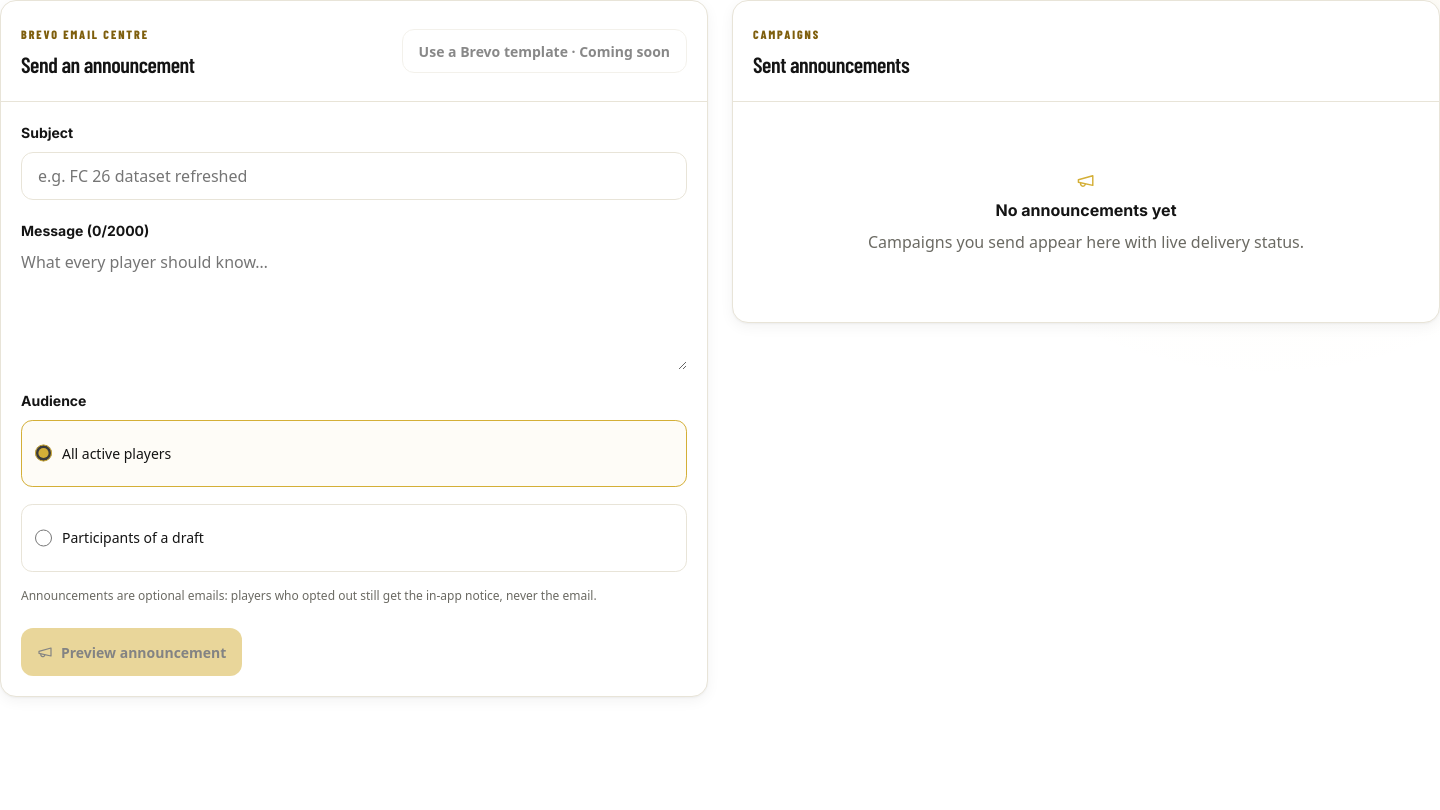
AdminCommunicationsPage (PR-21 §9.8) › explains a 409 as the audience moving since the preview
The image size is (1440, 810).
Type "Season 2 opens" into the field labelled "Subject" at (354, 176), box x1=21 y1=152 x2=687 y2=200
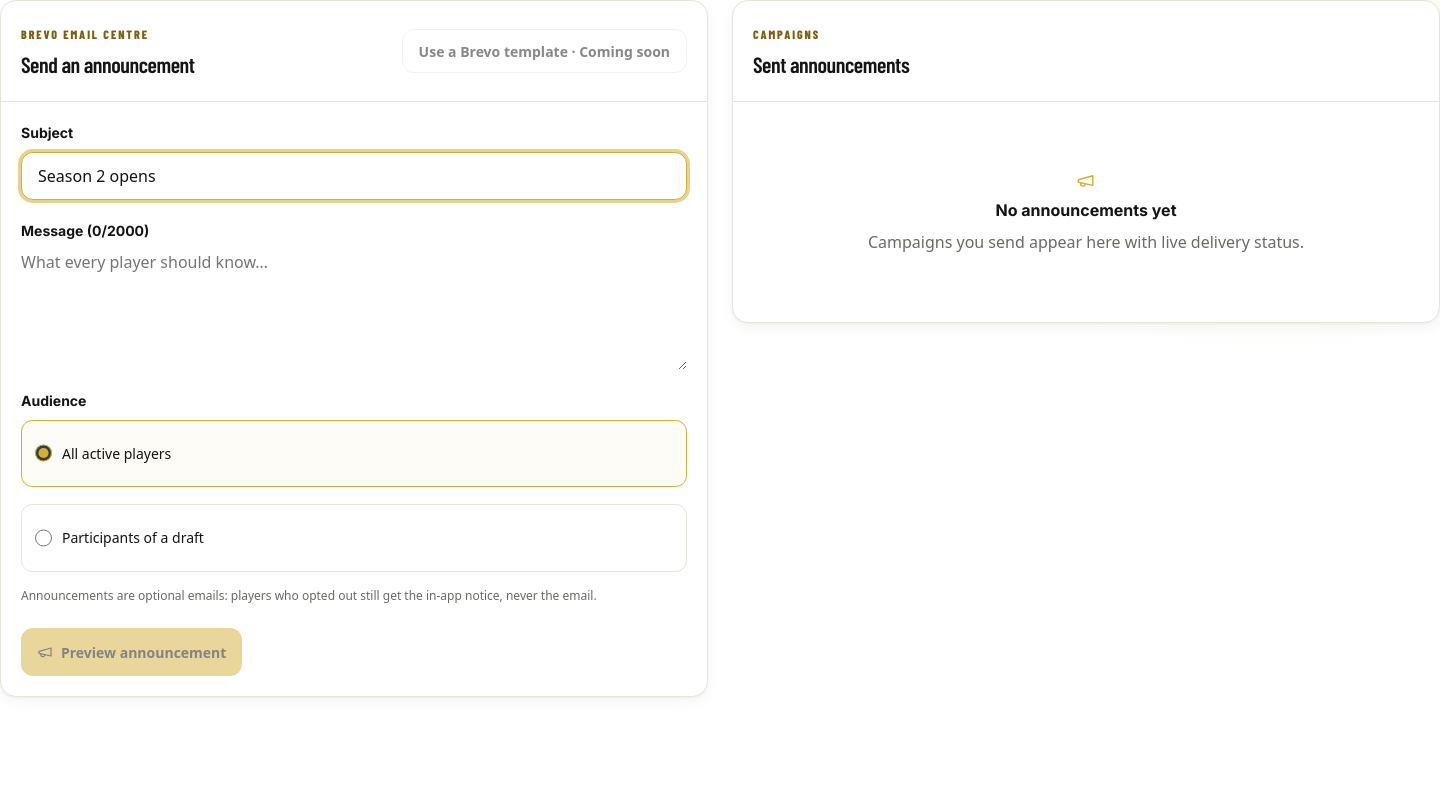
Type "New dataset live." into the text box labelled "Message (0/2000)" at (354, 310), box x1=21 y1=250 x2=687 y2=370
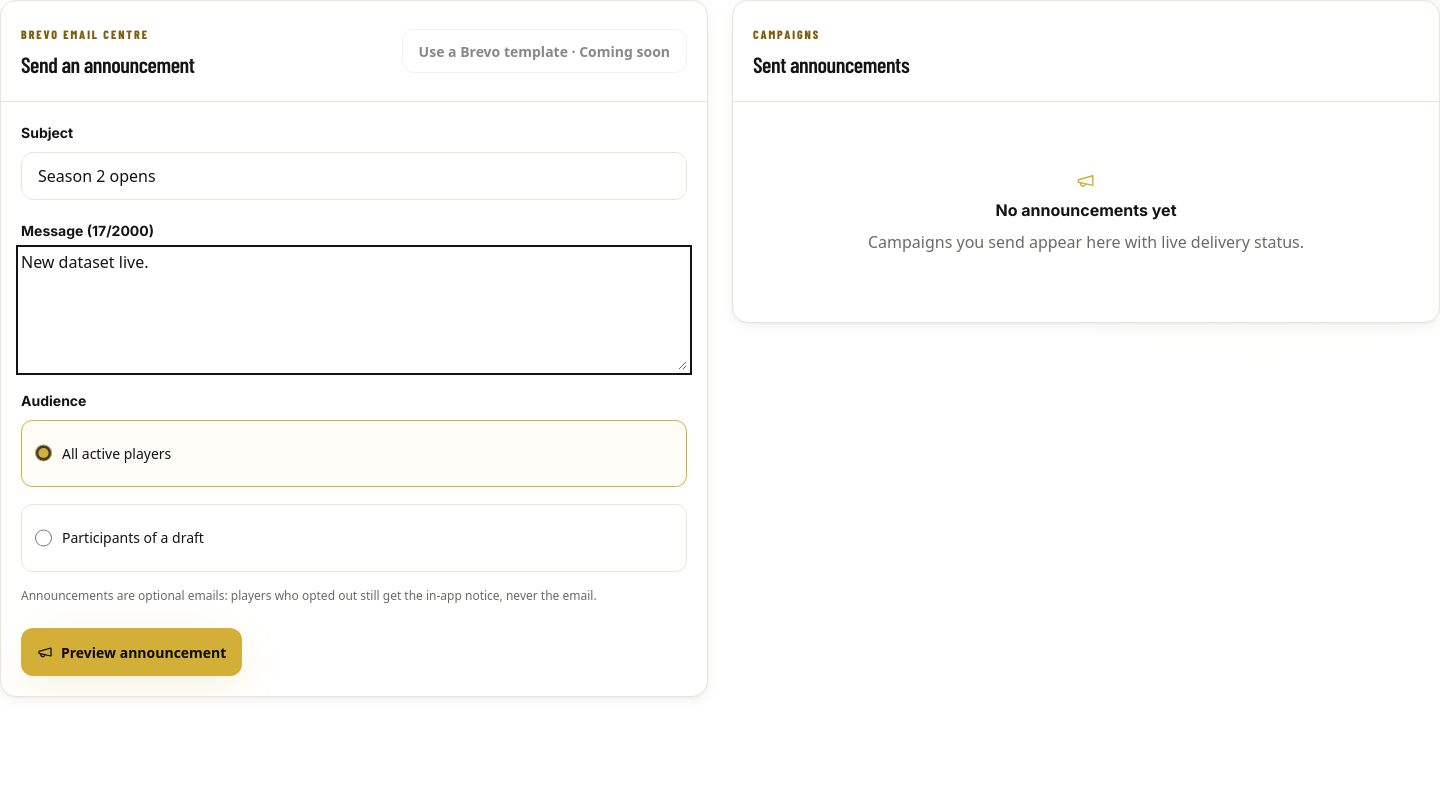
Click the button "Preview announcement" at (132, 652), box x1=21 y1=628 x2=242 y2=676
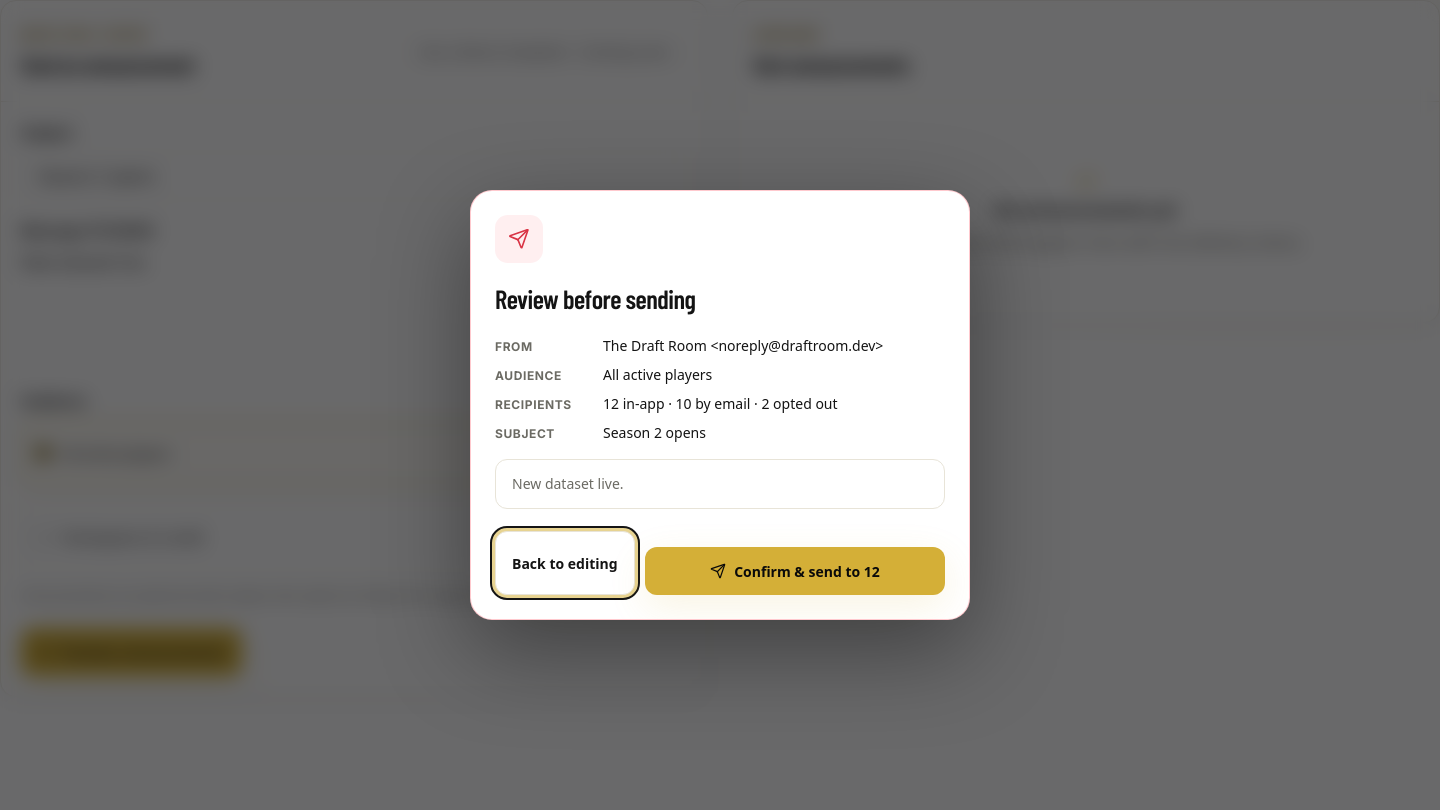
Click the button "Confirm & send to 12" at (795, 571), box x1=645 y1=547 x2=945 y2=595
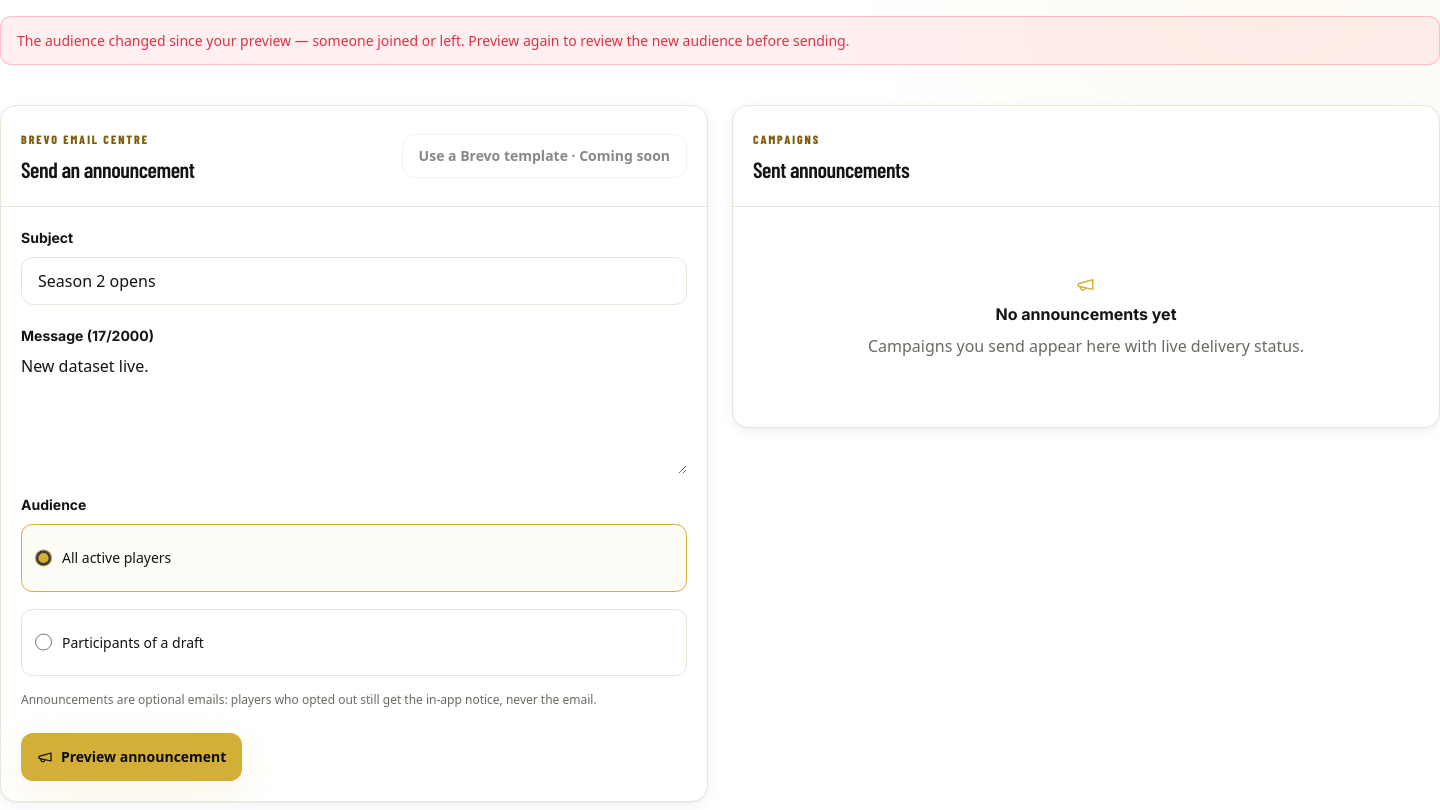
Now the text "audience changed since your preview" is shown, box x1=17 y1=31 x2=849 y2=50
Now the dialog is gone
